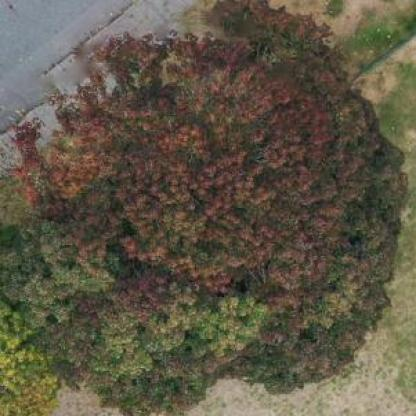Deciduous Tree: (15, 13, 416, 398)
